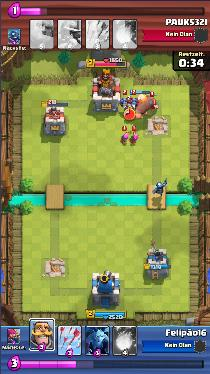ally_giant: (133, 95, 154, 119)
ally_mini_pekka: (152, 178, 168, 195)
enemy_archer: (130, 132, 139, 144), (120, 132, 129, 143)
enemy_minion: (124, 106, 134, 114), (119, 98, 128, 105), (130, 99, 138, 104)
